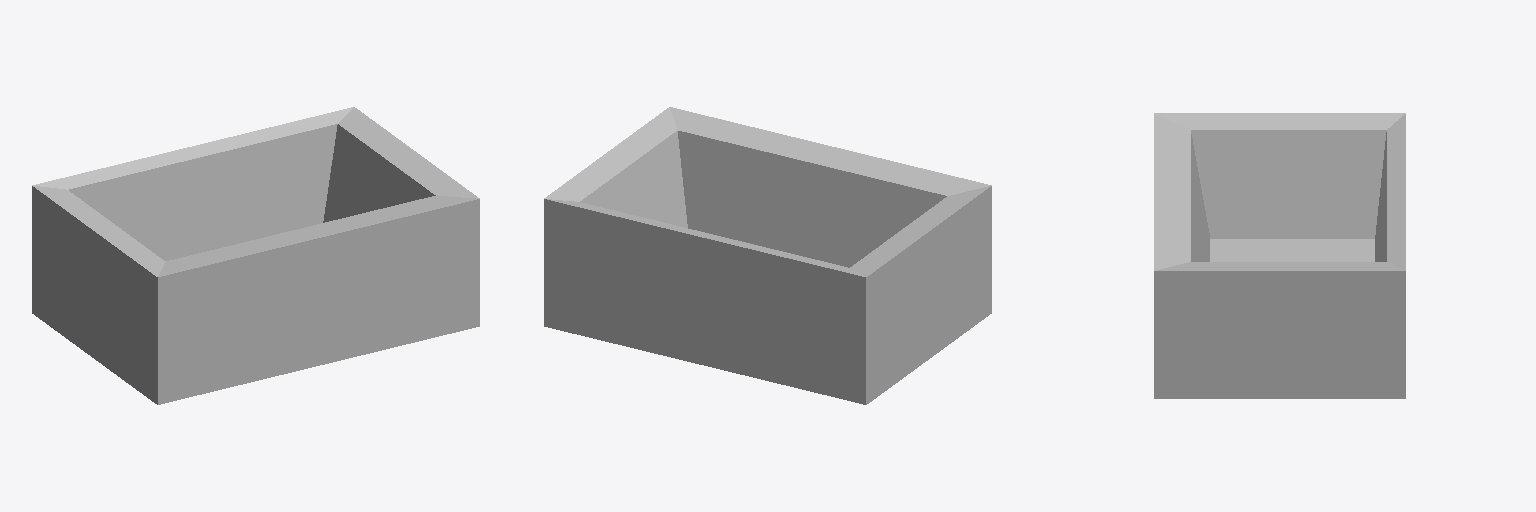
File: sink_01.obj
The picture shows the model from 3 angles: view 1: azimuth 30°, elevation 25°; view 2: azimuth 150°, elevation 25°; view 3: azimuth 270°, elevation 25°; orthographic projection.
Visible parts, largest first — view 1: sink_02; view 2: sink_02; view 3: sink_02.
Boxes of the visible parts, <box> form: sink_02: <box>32,107,479,404</box>; sink_02: <box>544,107,991,404</box>; sink_02: <box>1154,113,1405,398</box>.
Bounding box in the file's own units: 1.59 × 0.6025 × 1.07.